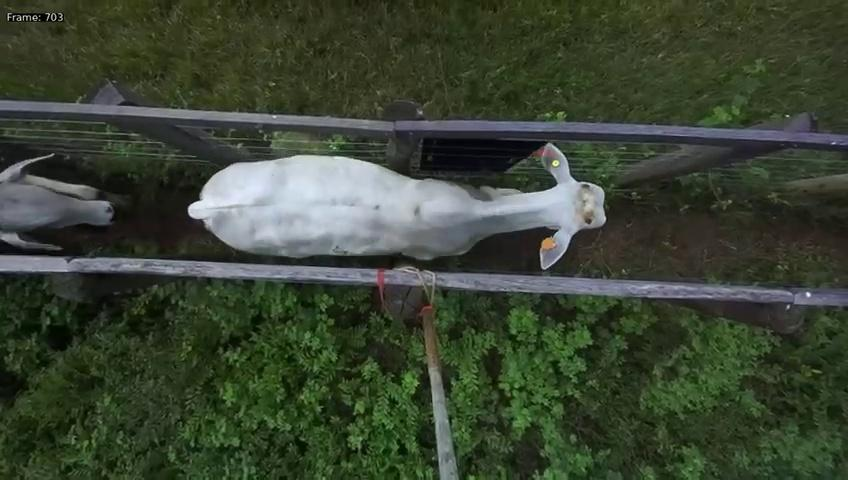cattle: (183, 137, 607, 269)
